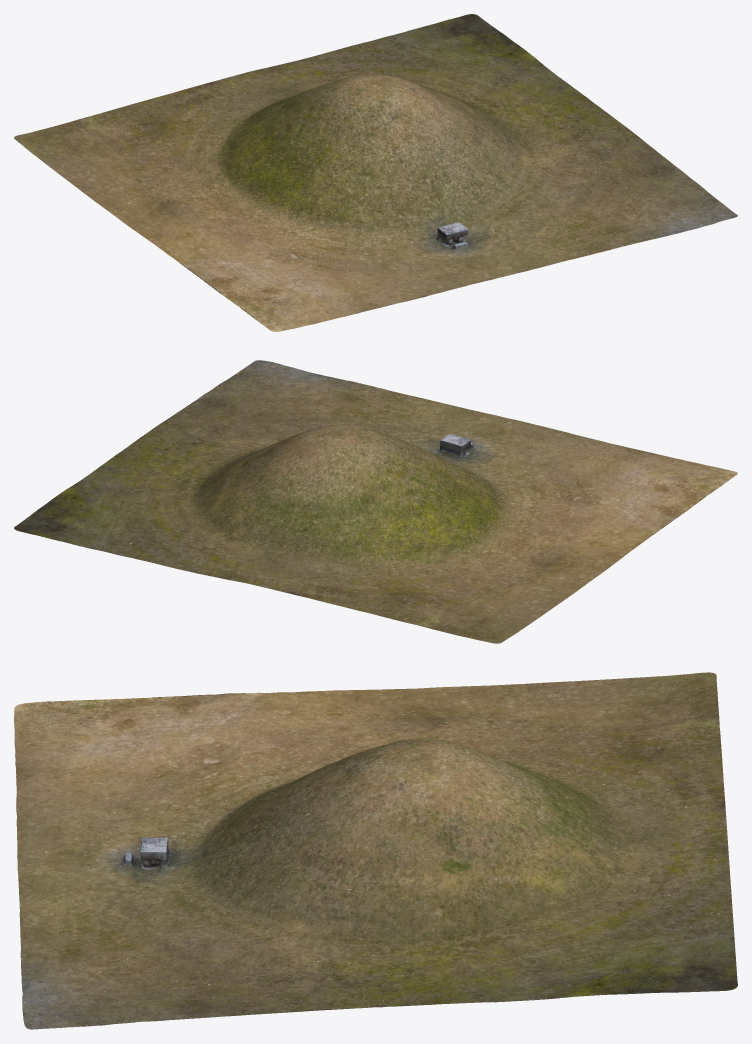
The model's file is gyeongae.glb.
3 renders of one model, top to bottom at view 1: azimuth 30°, elevation 25°; view 2: azimuth 150°, elevation 25°; view 3: azimuth 270°, elevation 25°, orthographic. The views are drawn at different scales.
Parts seen in each view (by area): view 1: Object_2, Object_3; view 2: Object_2, Object_3; view 3: Object_2, Object_3.
Part boxes in pixels (x1=…): Object_2: x1=14, y1=14, x2=737, y2=331; Object_3: x1=15, y1=36, x2=728, y2=330; Object_2: x1=14, y1=360, x2=737, y2=643; Object_3: x1=49, y1=362, x2=737, y2=642; Object_2: x1=14, y1=672, x2=737, y2=1029; Object_3: x1=14, y1=672, x2=732, y2=1027.
Size of the model in its own units: 25.2 by 4.29 by 23.22.
Materials: 1 (1 with a texture image).
